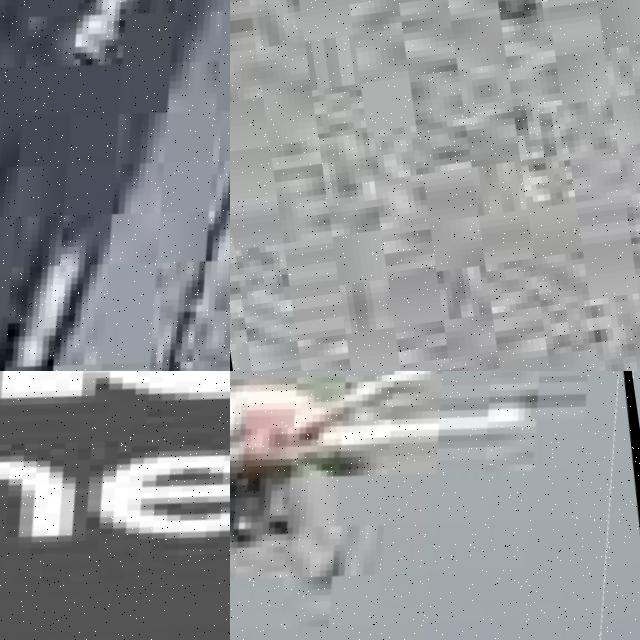0: (230, 371, 640, 640), (0, 0, 230, 371)
drone: (0, 371, 230, 640)
